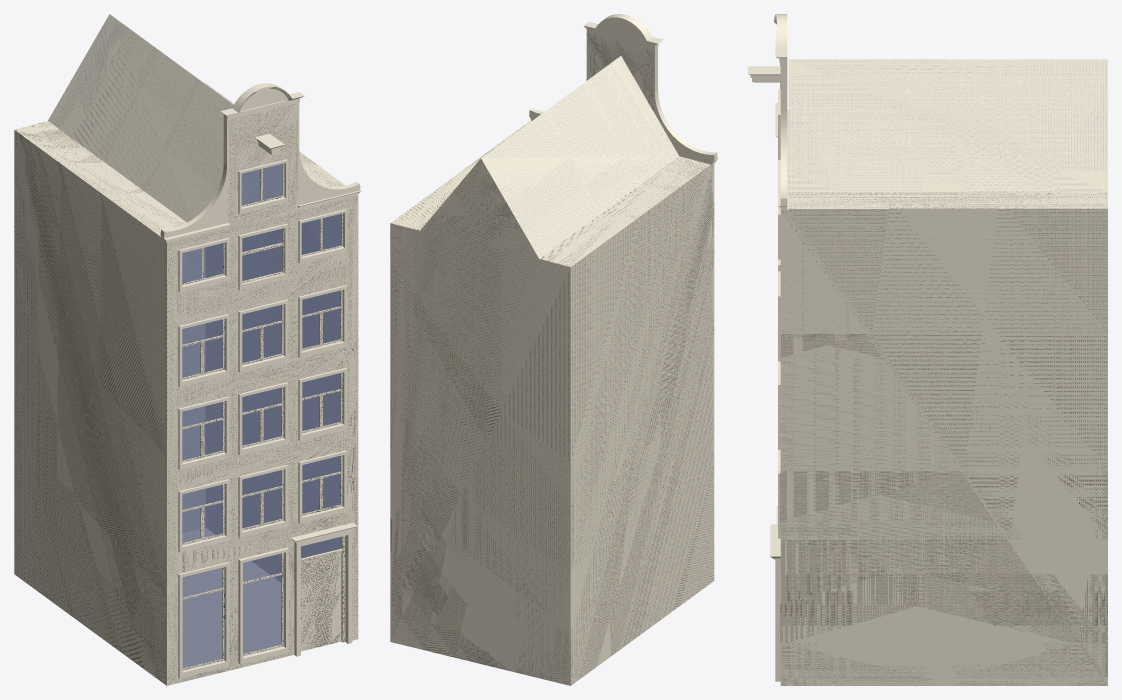
The model's file is House3.fbx.
The picture shows the model from 3 angles, left to right: view 1: azimuth 30°, elevation 25°; view 2: azimuth 150°, elevation 25°; view 3: azimuth 270°, elevation 25°; orthographic projection. The views are drawn at different scales.
Parts seen in each view (by area): view 1: Group1; view 2: Group1; view 3: Group1.
Boxes of the visible parts, <box> form: Group1: <box>14,14,361,685</box>; Group1: <box>390,14,719,685</box>; Group1: <box>748,14,1107,685</box>.
Bounding box in the file's own units: 187 × 523 × 276.
